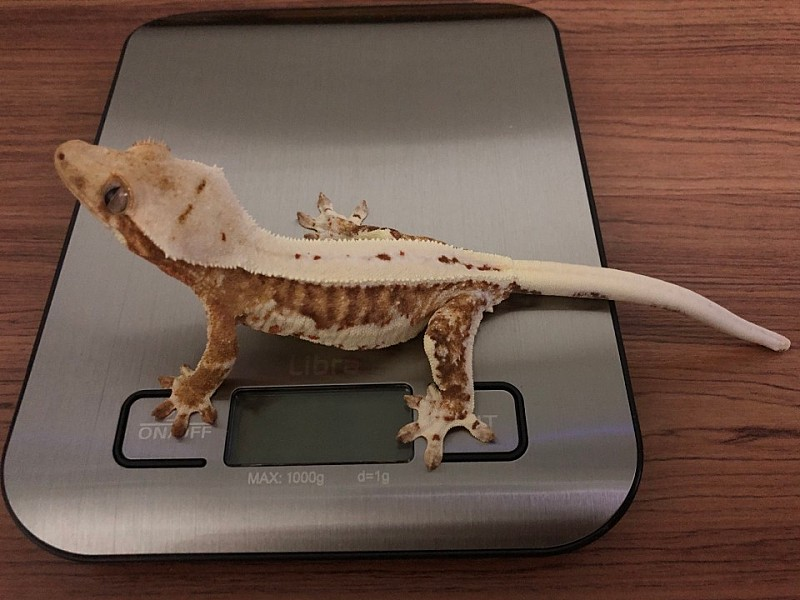analyzer_lateral: (197, 270, 505, 348)
